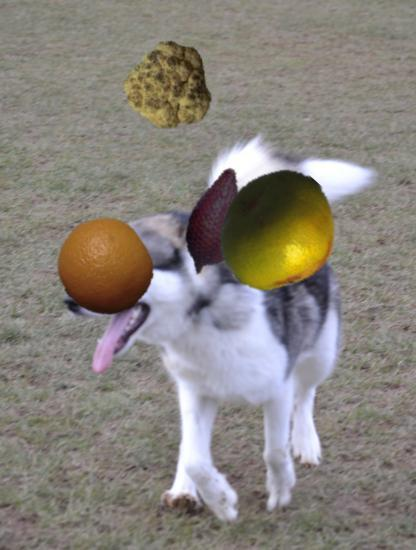Cauliflower: (128, 40, 219, 131)
Orange: (55, 218, 154, 317)
Pomelo: (215, 169, 341, 295)
Salak: (161, 166, 275, 280)
